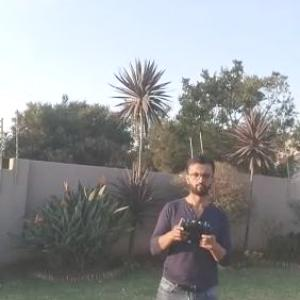follow: (145, 145, 238, 299)
